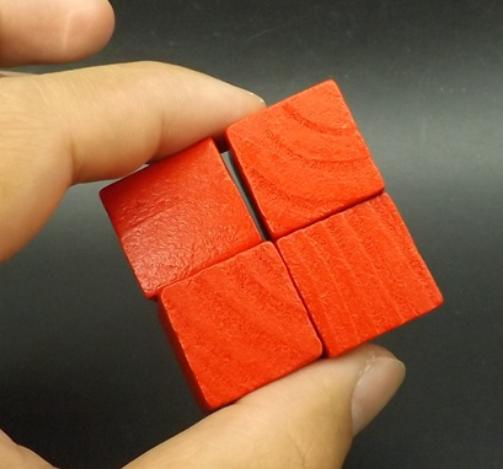red cube: (153, 242, 325, 415), (275, 192, 444, 361), (224, 78, 388, 241), (99, 139, 265, 296)
